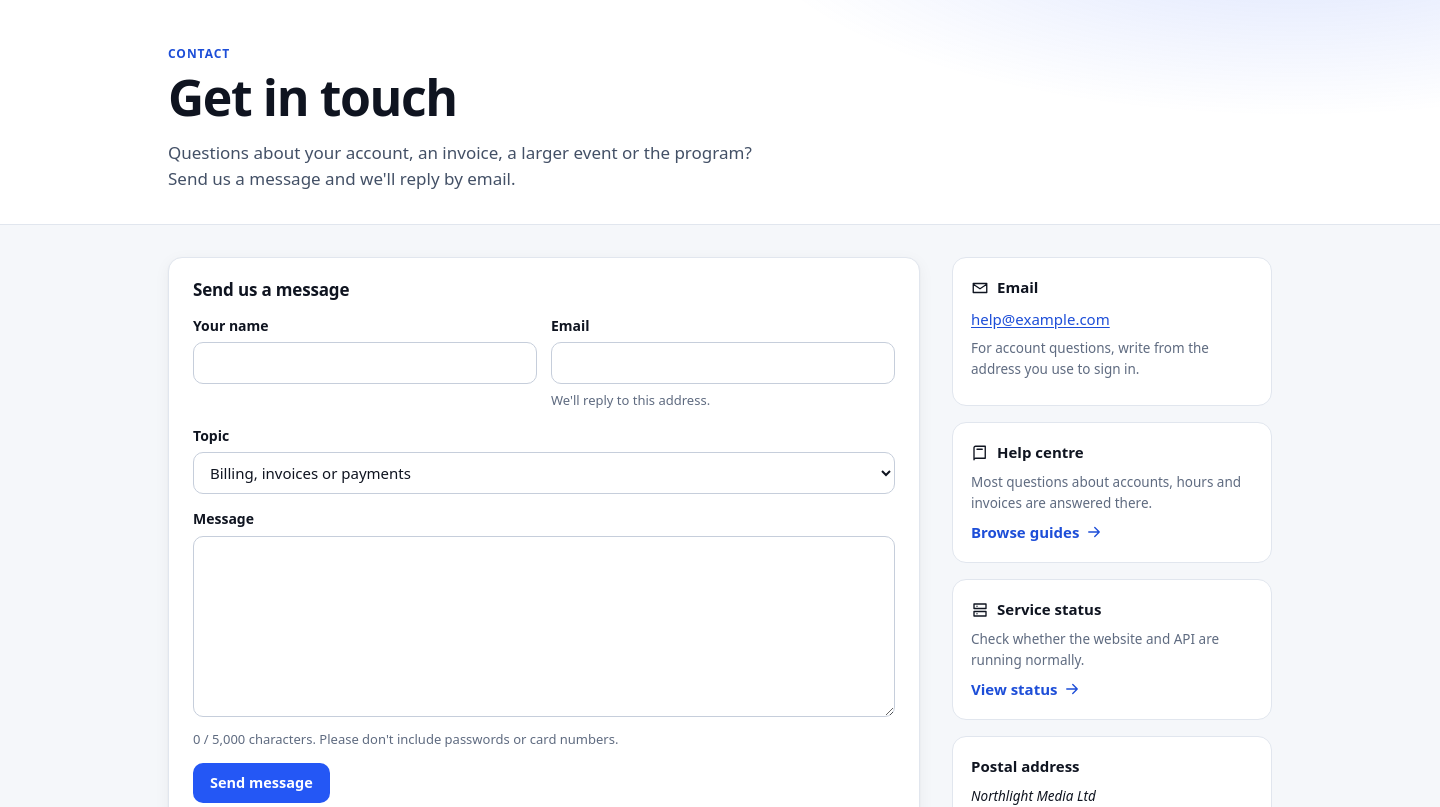
Test: contact form › validates, then posts the message with the topic from the address
This screenshot has width=1440, height=807.
Expected: the link "help@example.com" is shown, [971,308,1110,328]
Expected: the dropdown labelled "Topic" shows "Billing, invoices or payments", [193,452,895,494]
Type "Jo Rivera" into the field labelled "Your name". click: (365, 363)
box: [193,342,537,384]
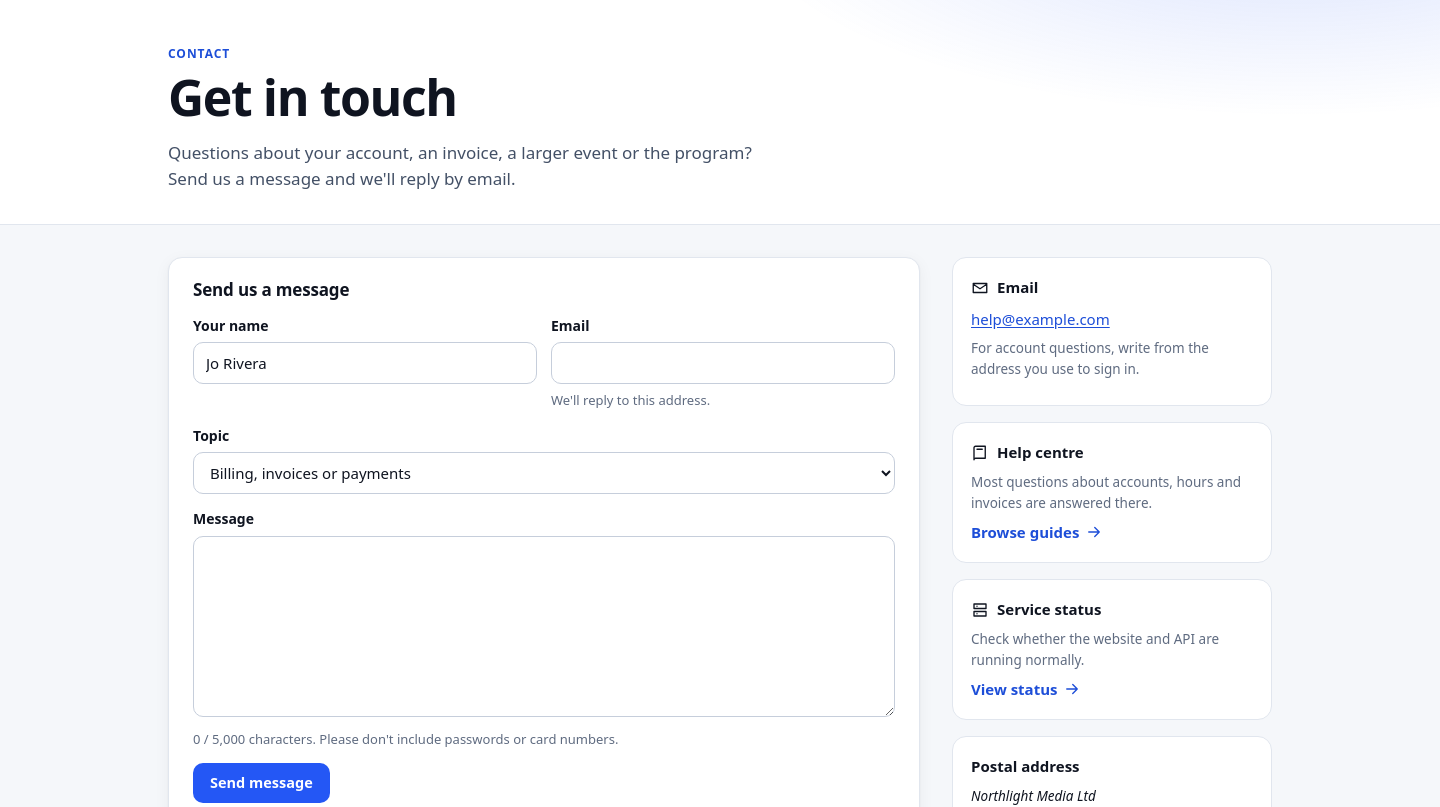
Type "jo@example.com" into the field labelled "Email". click: (723, 363)
box: [551,342,895,384]
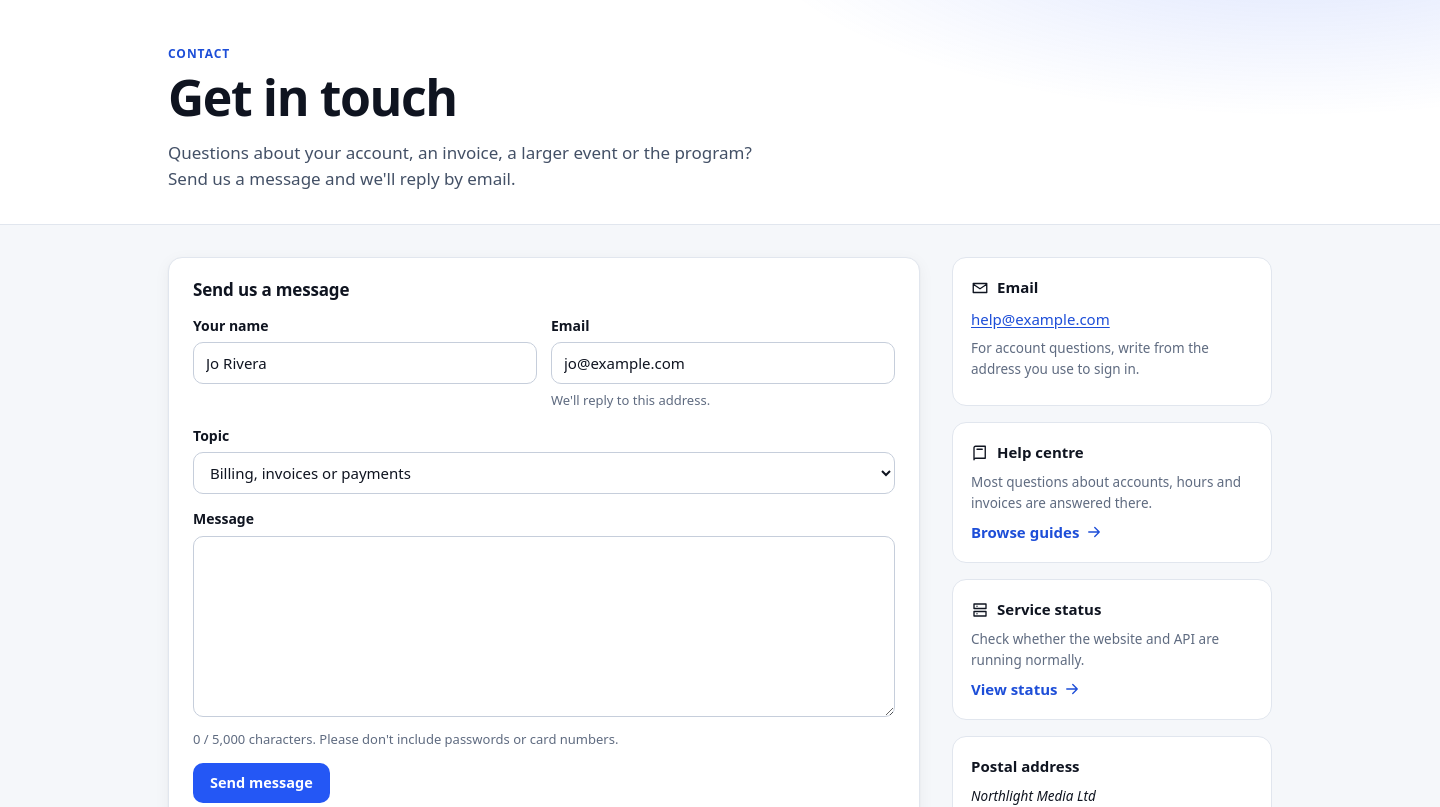
Type "short" into the text box labelled "Message". click: (544, 626)
box: [193,536,895,717]
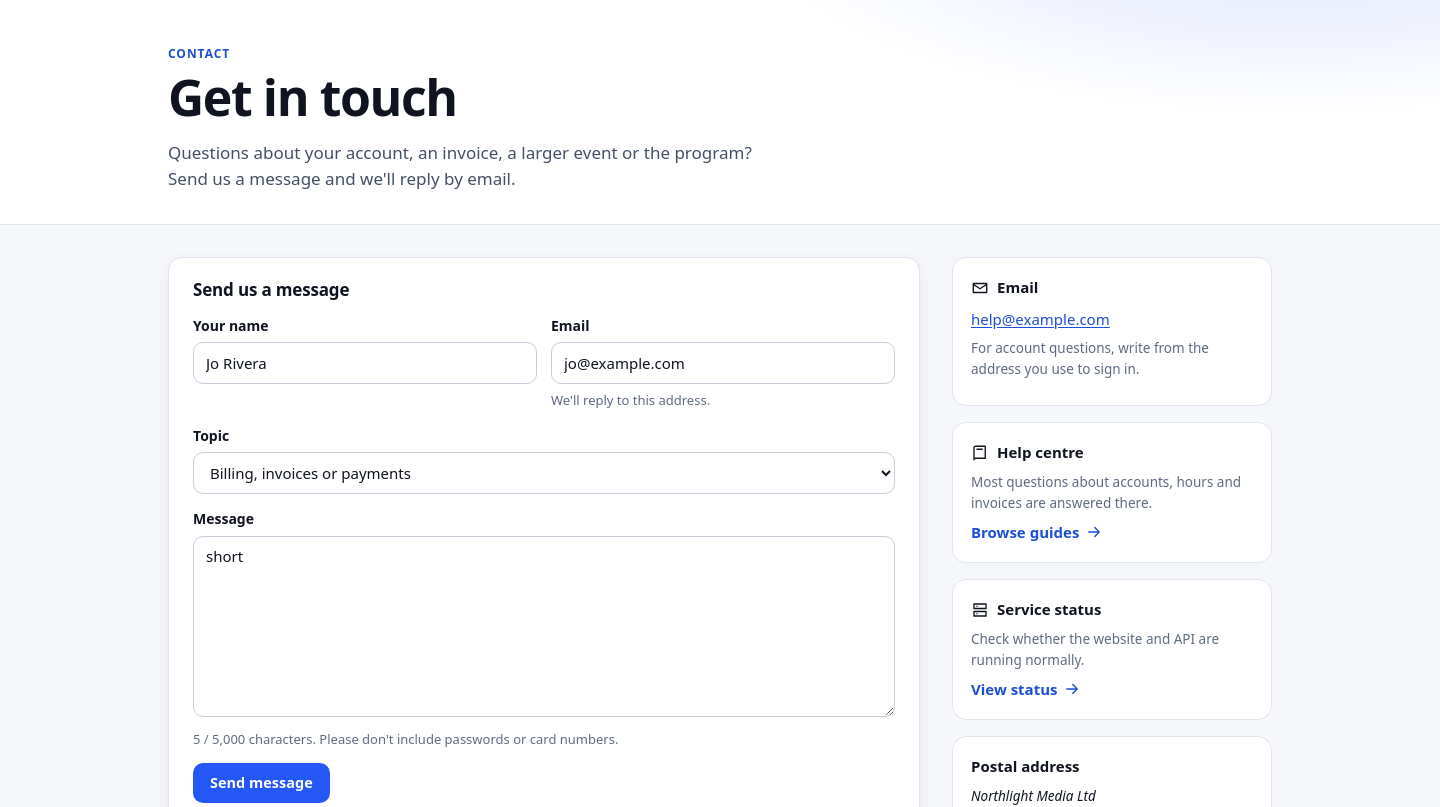
Click the button "Send message". click: (261, 783)
box: [193,763,330,803]
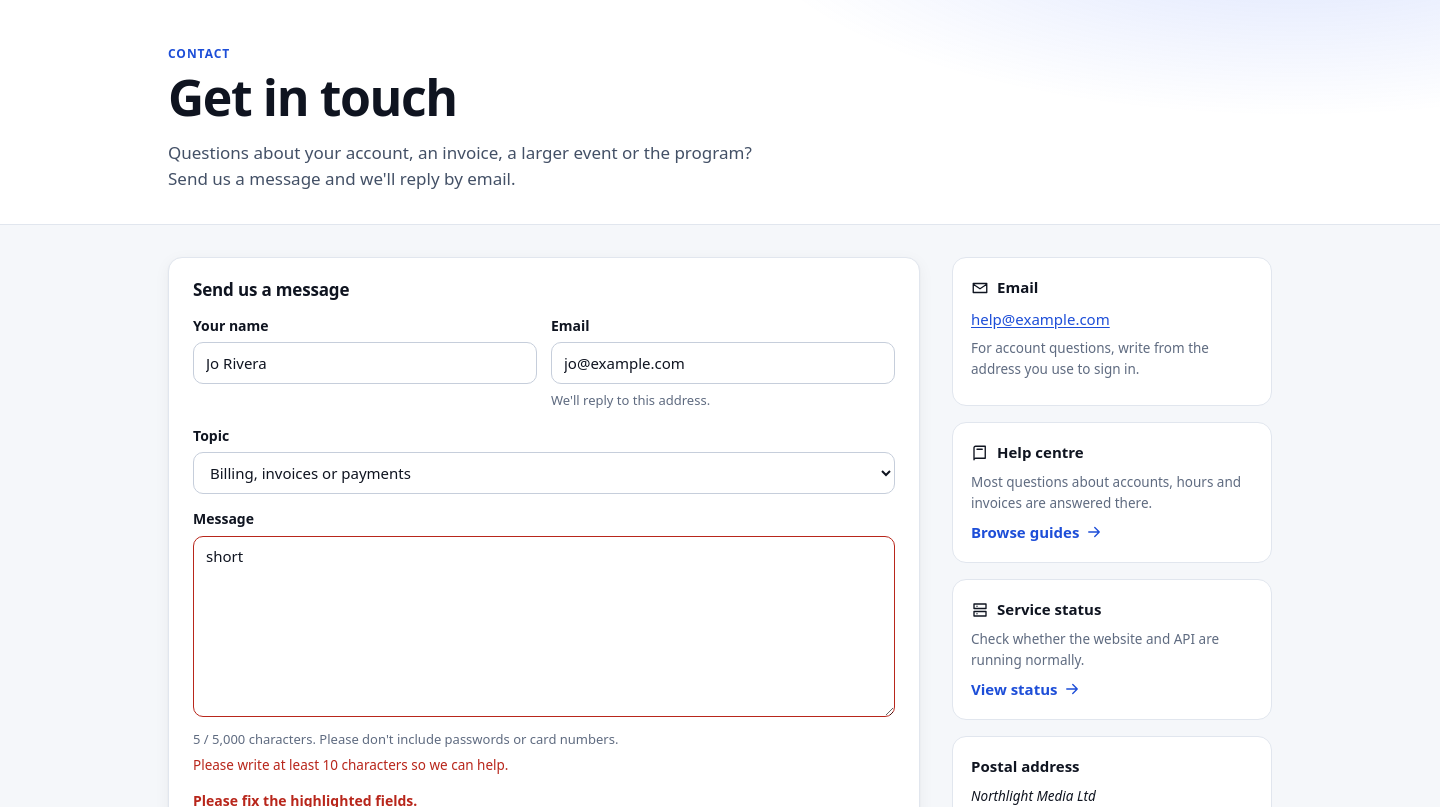
Expected: the text "Please write at least 10 characters so we can help." is shown, [193,756,508,774]
Replace the text in the text box labelled "Message" with "Can I get an invoice with our VAT number?". click: (544, 626)
box: [193,536,895,717]
(page scrolled)
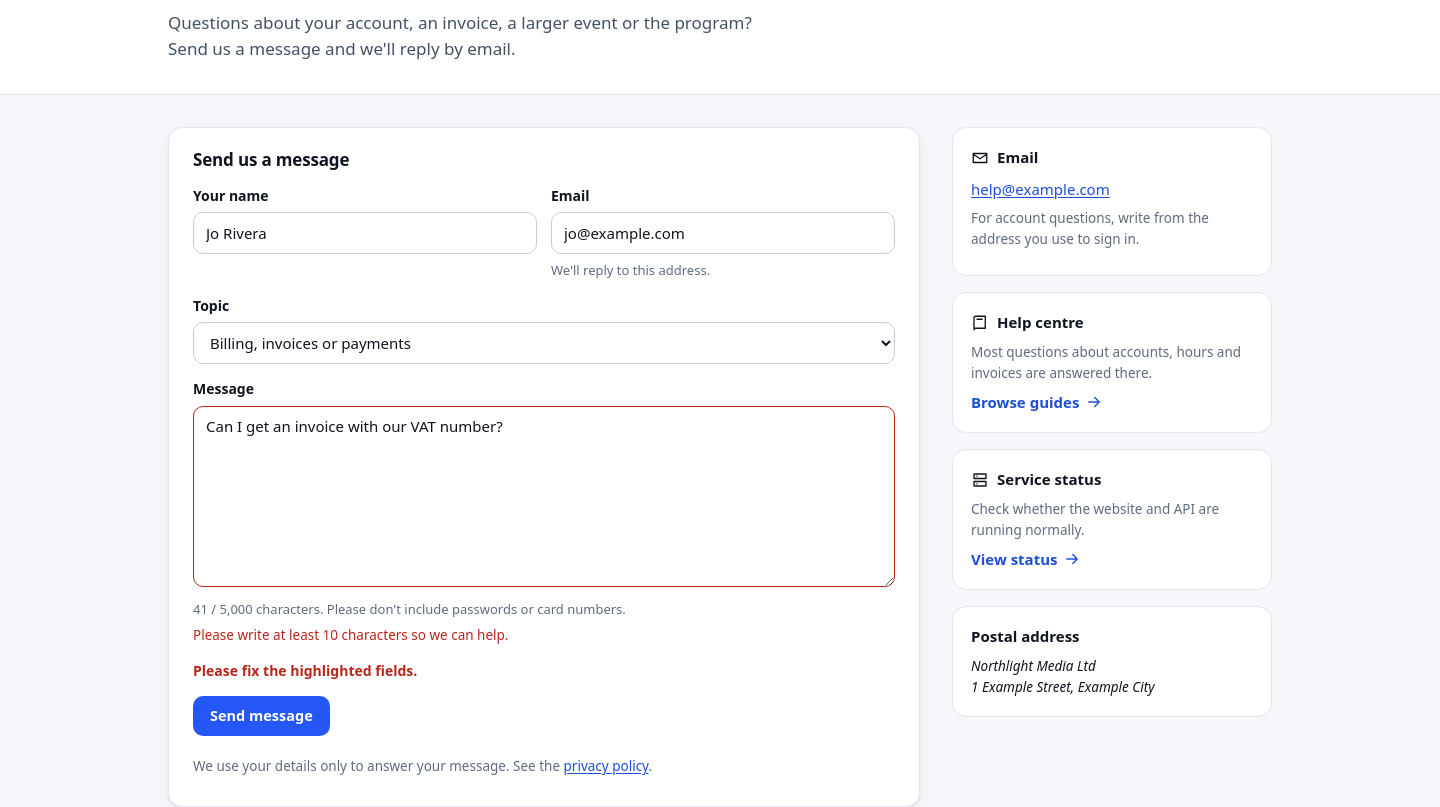
Click the button "Send message". click: (261, 716)
box: [193,696,330,736]
(page scrolled)
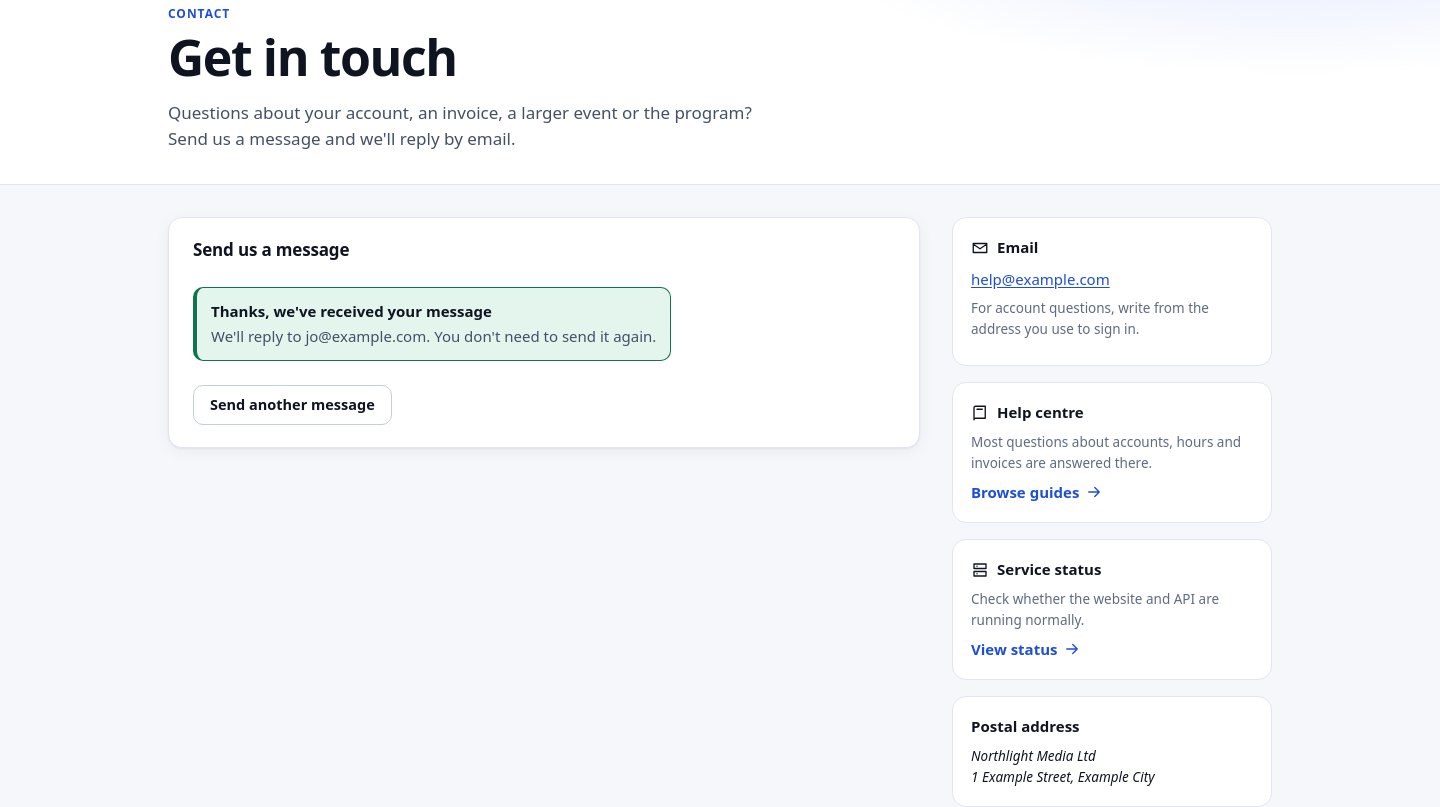
Expected: the text "Thanks, we've received your message" is shown, [211,301,492,321]
